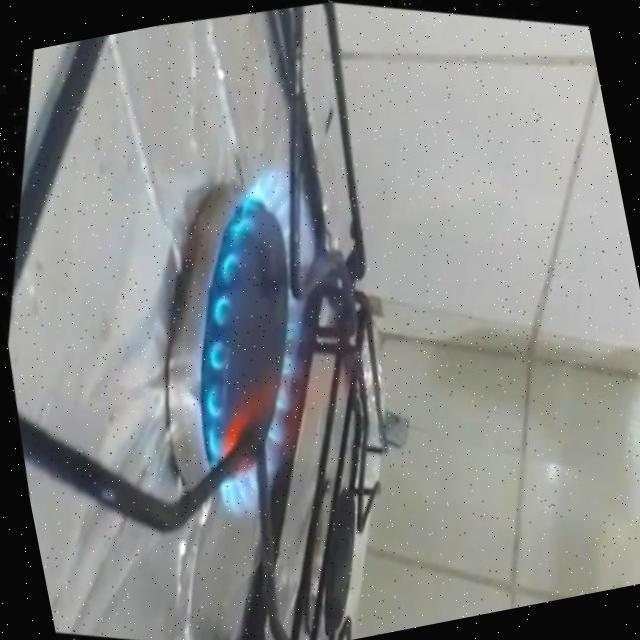fire: (102, 120, 410, 560)
